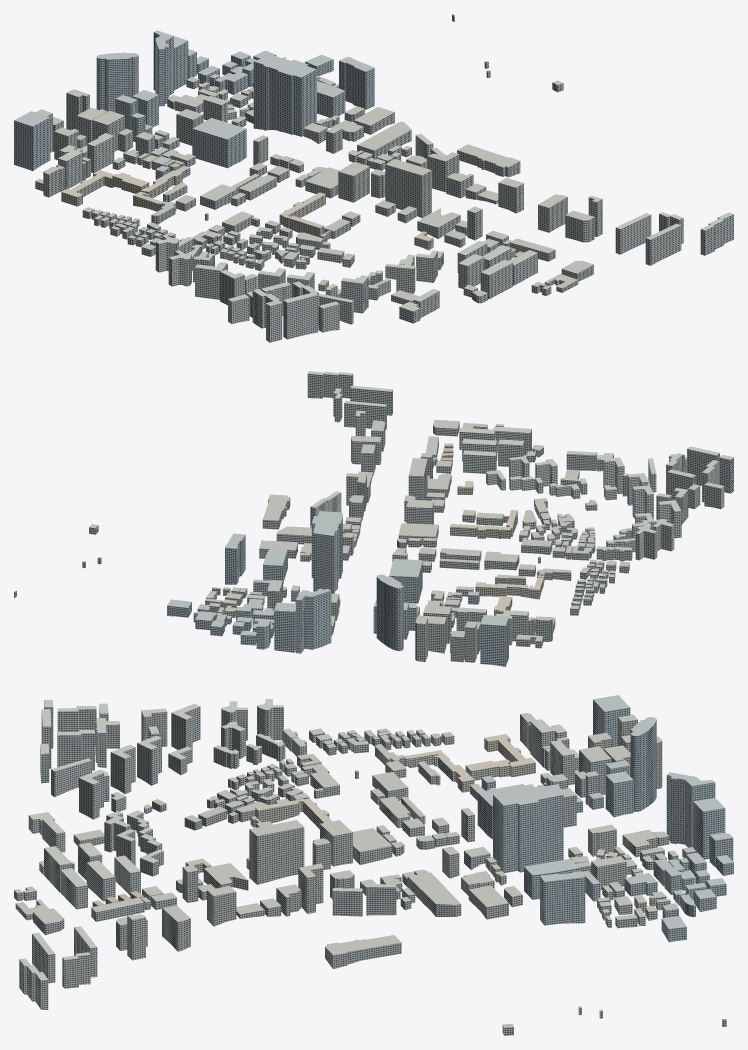
Rendered from city_4_4.glb.
3 renders of one model, top to bottom at view 1: azimuth 30°, elevation 25°; view 2: azimuth 150°, elevation 25°; view 3: azimuth 270°, elevation 25°, orthographic. The views are drawn at different scales.
Bounding box in the file's own units: 951 × 151 × 1015.
5 materials, 5 textured.
